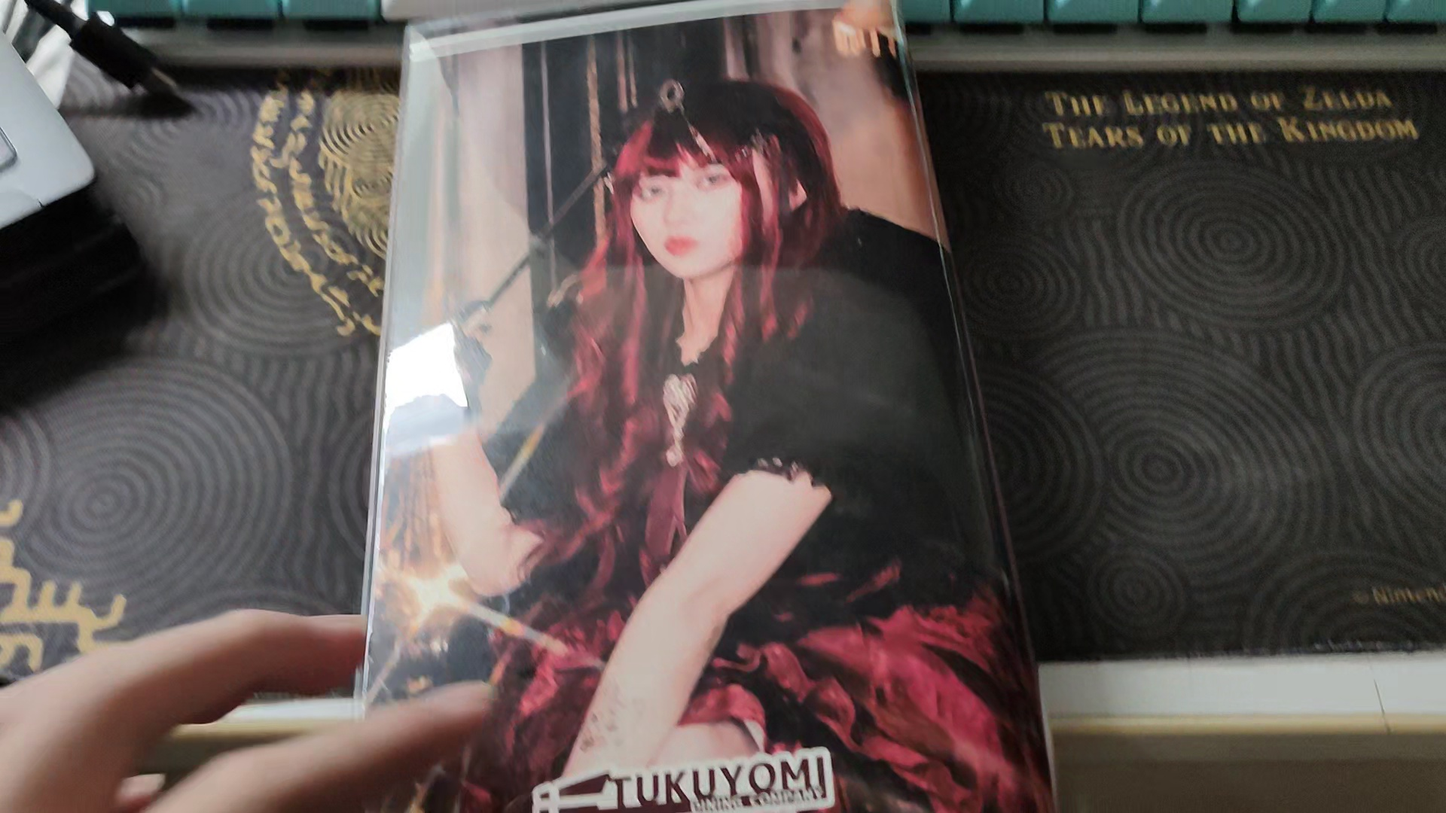Photo_book: (348, 0, 1058, 813)
